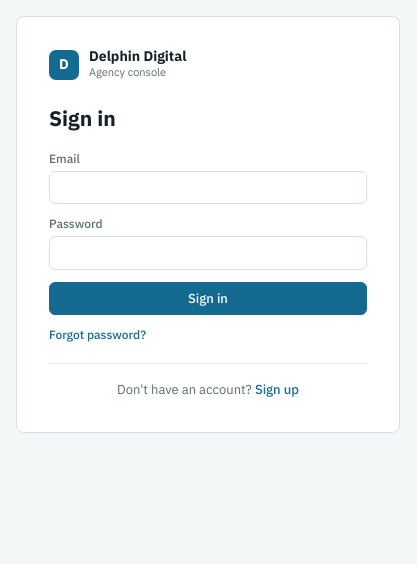
sign in › explains when the account is waiting for approval
In the field labelled "Email": (208, 188) [49,171,367,204], type "sam@example.com"
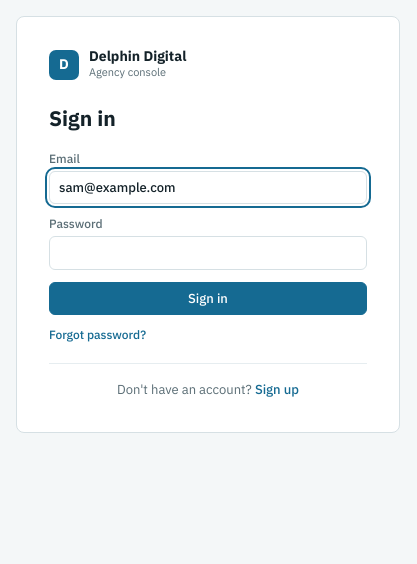
In the password field labelled "Password": (208, 253) [49,236,367,270], type "correct-horse-battery-staple"
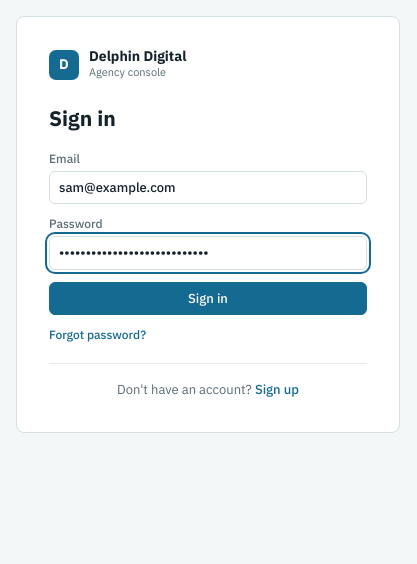
Click the button "Sign in": (208, 299) [49,282,367,315]
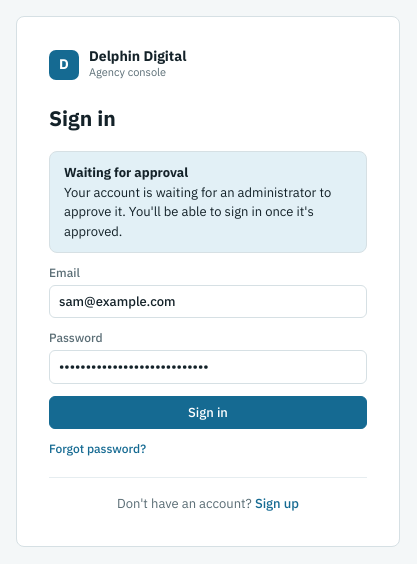
Expected: the text "Waiting for approval" is shown, [64,164,188,181]
